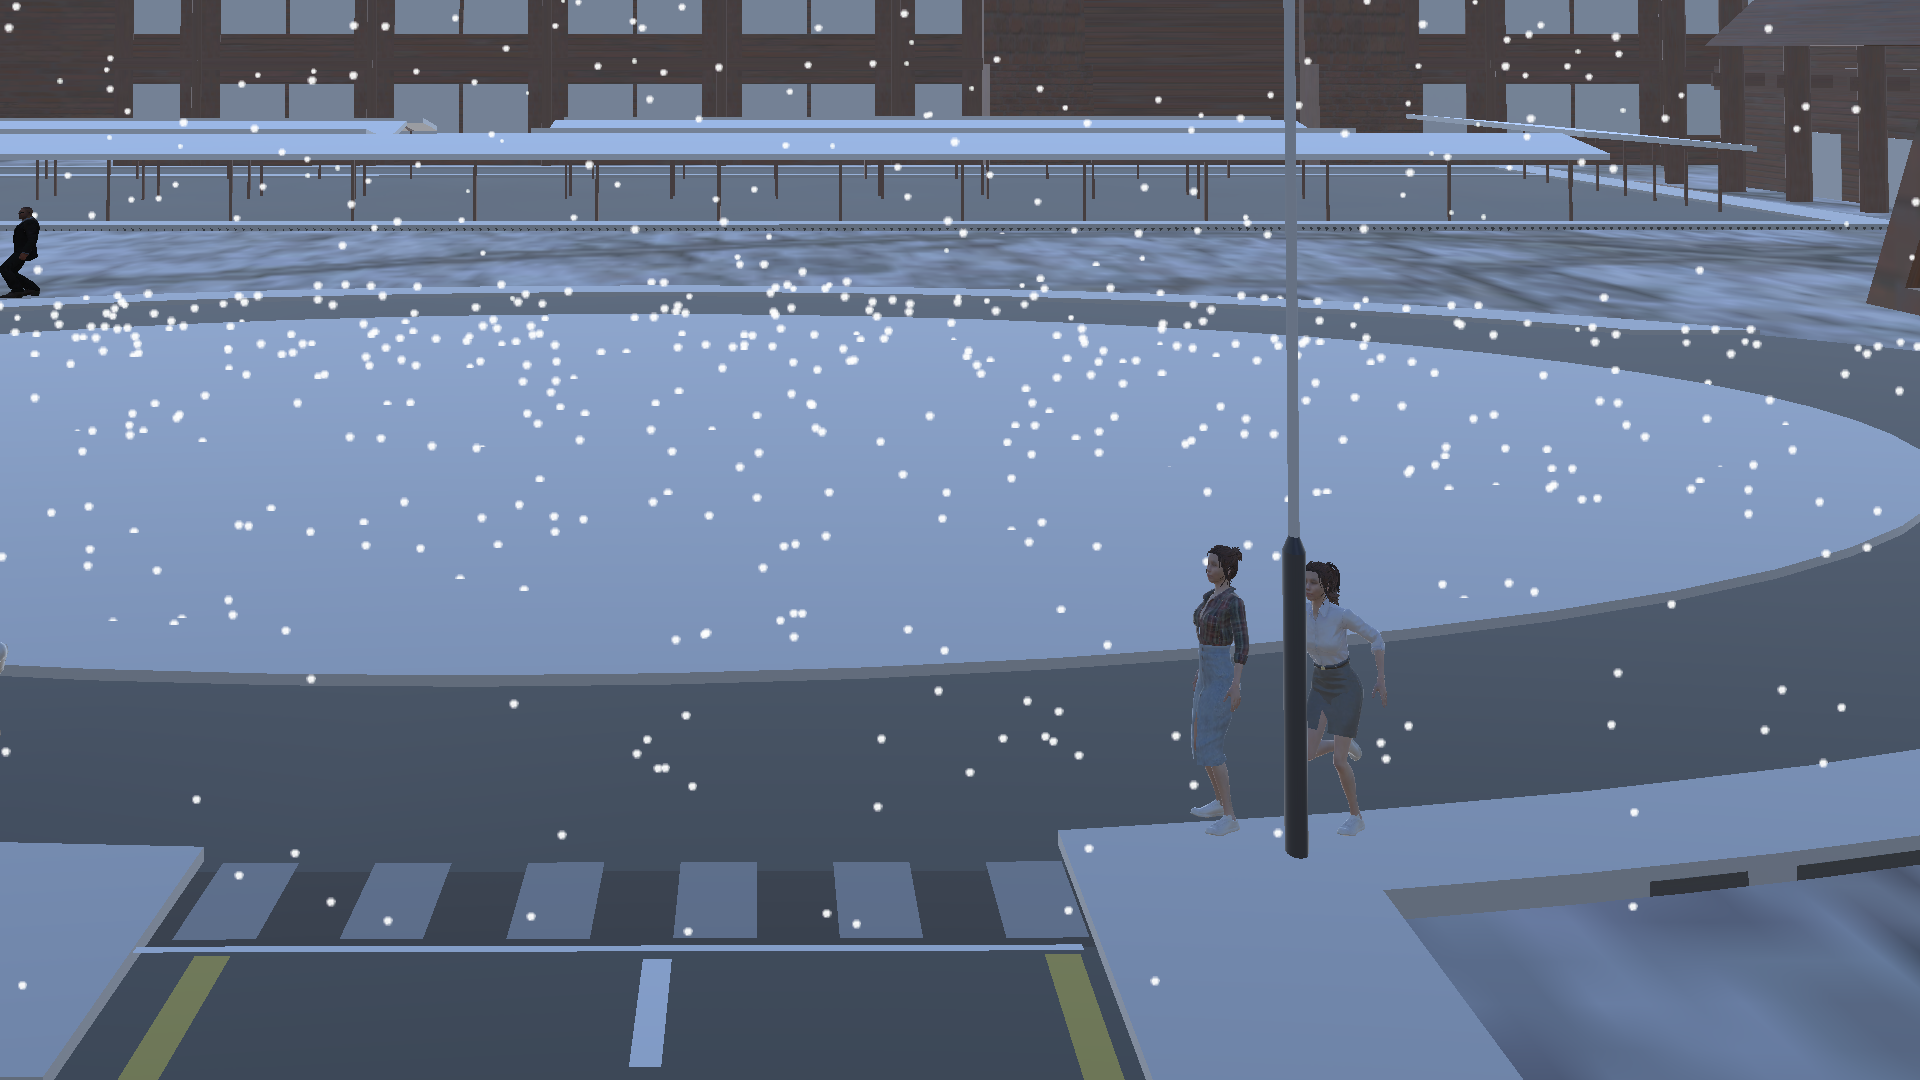pedestrian: (1164, 539, 1254, 834), (1301, 560, 1387, 836), (5, 205, 48, 308)
